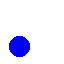circle: (9, 36, 29, 56)
